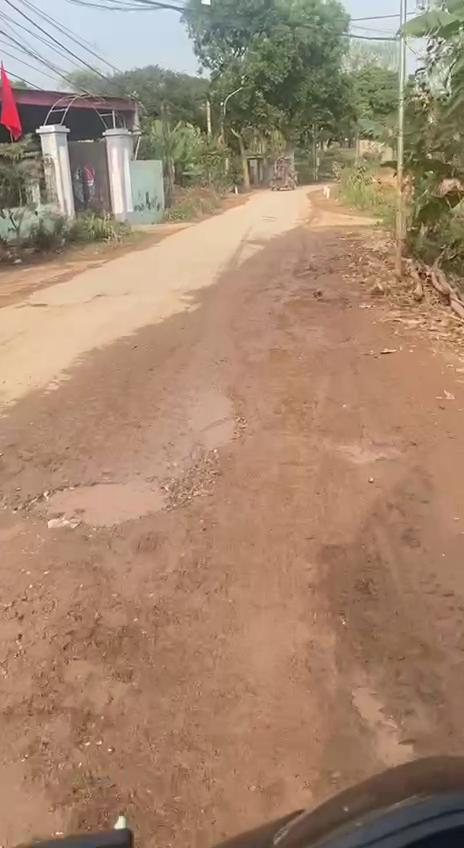pothole: (26, 464, 178, 537)
